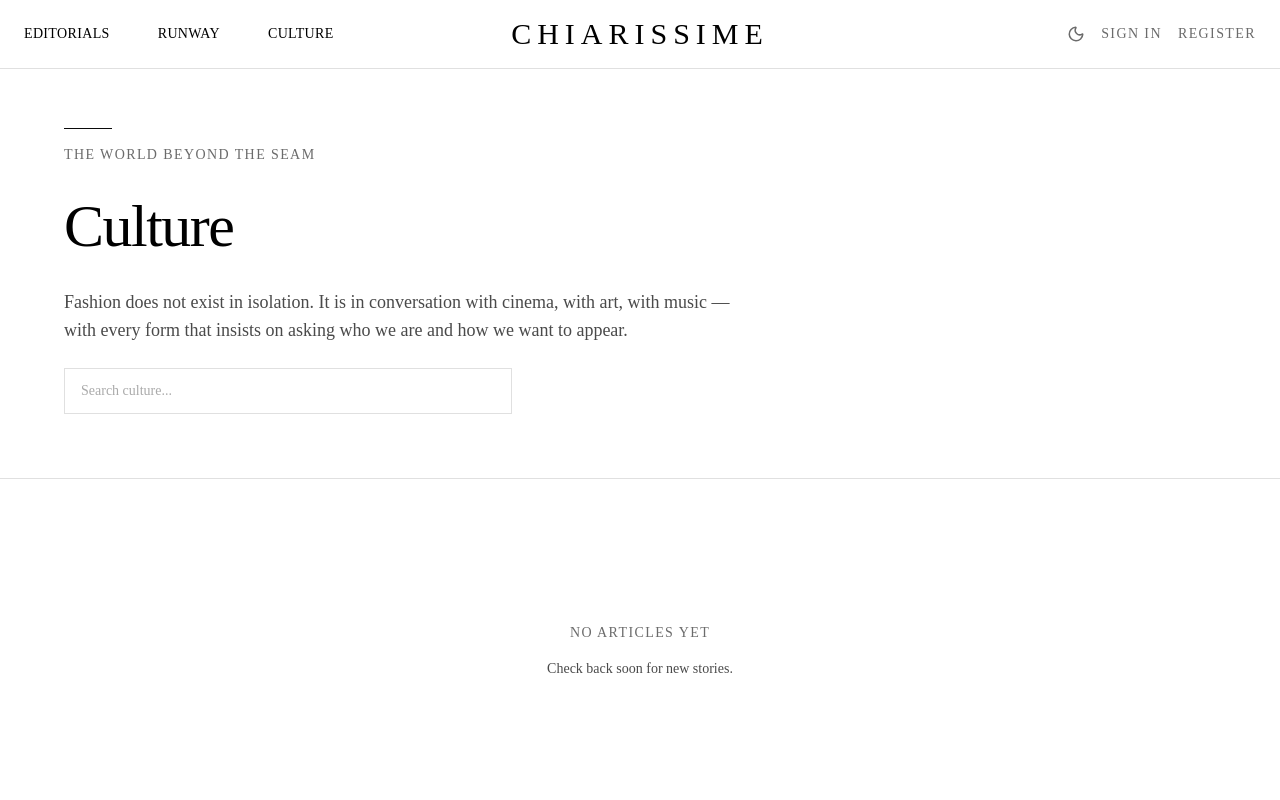
Test: Culture Page › should show no results message for an unmatched search
This screenshot has width=1280, height=800.
Type "zzzznotanarticle" into the field with placeholder "Search culture..." at (288, 391), box [64,368,512,414]
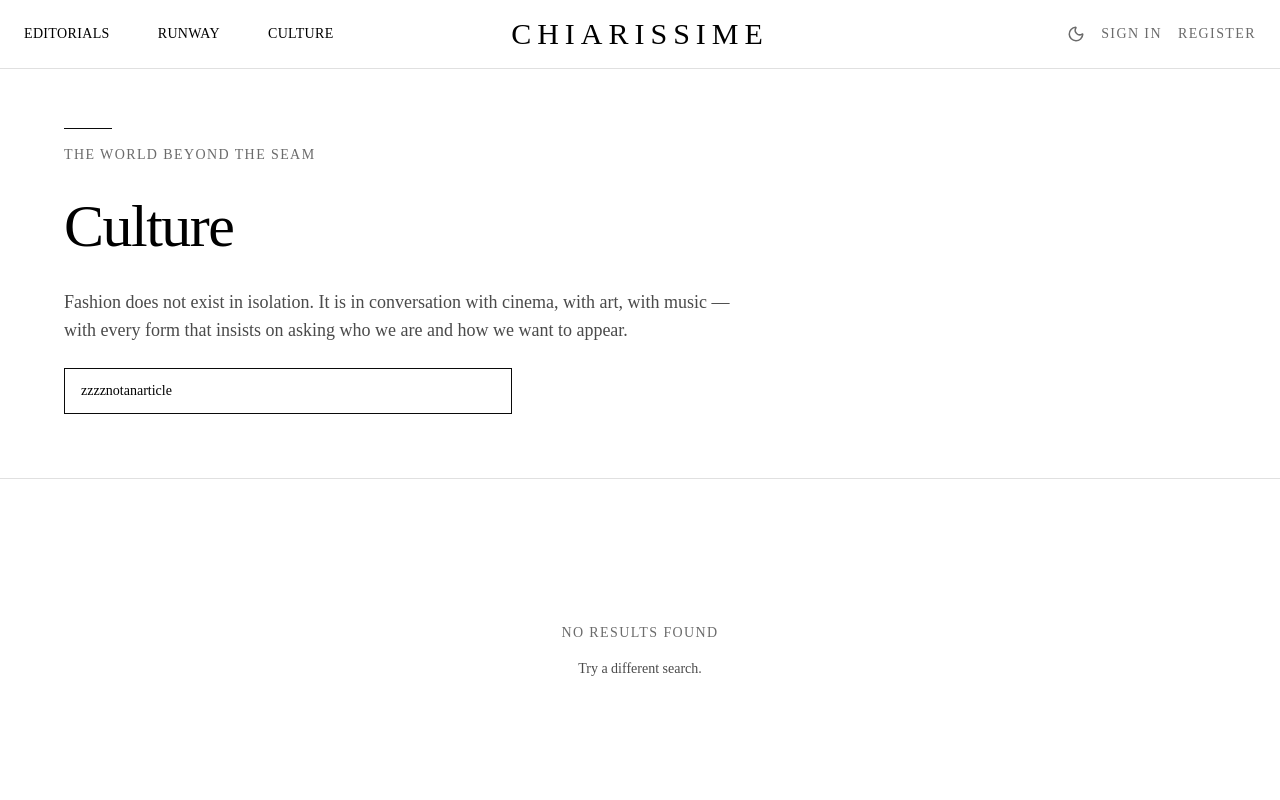
Check: the text "No results found" is shown, box [561,625,719,640]
